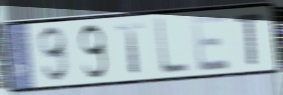9: (36, 25, 72, 85), (77, 23, 109, 81)
E: (190, 11, 233, 74)
L: (154, 16, 190, 77)
T: (233, 12, 265, 68), (115, 21, 147, 76)
